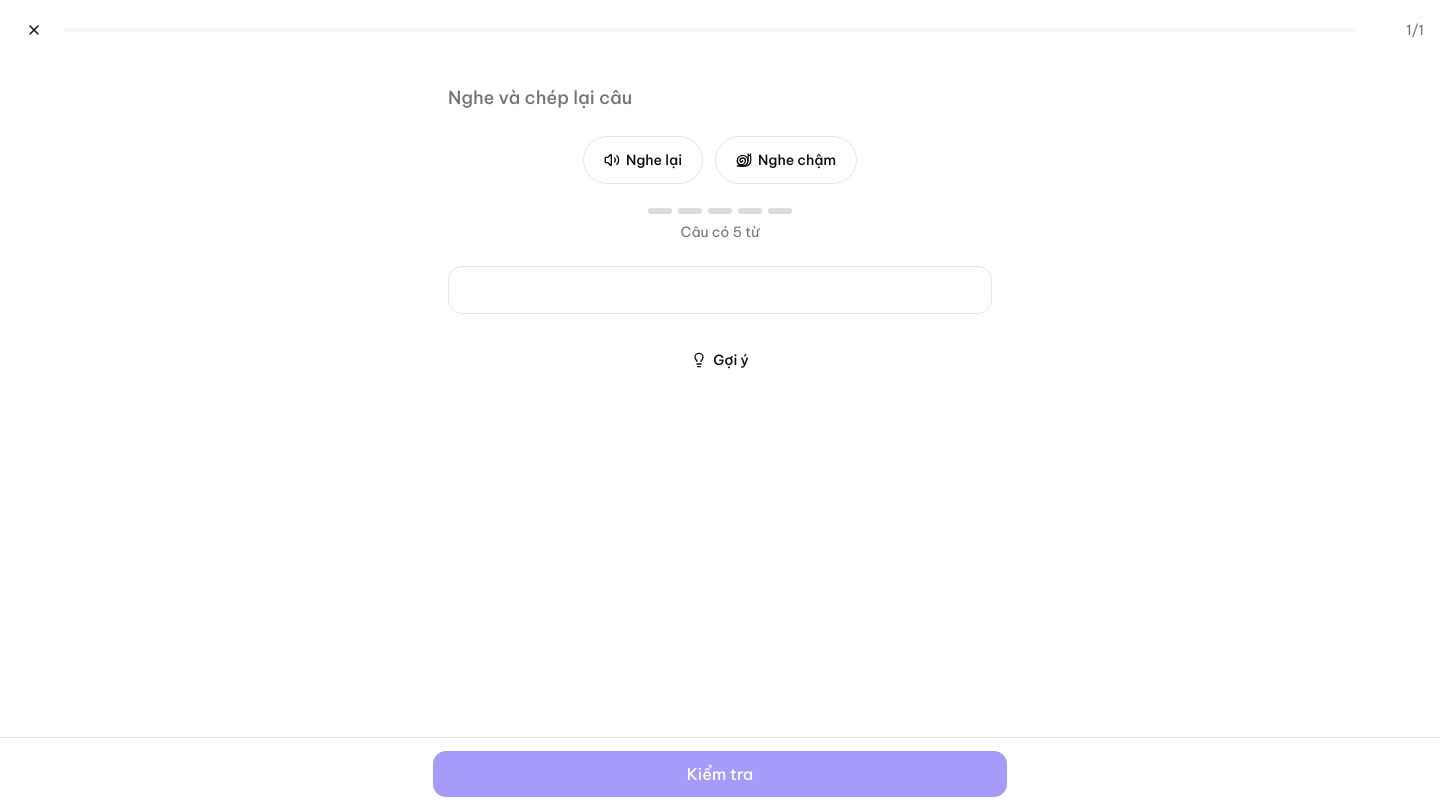
Test: dictation (feature 010) › accepts a forgiving answer and shows the sentence and meaning (AC-004, AC-005, AC-010)
Type "SHE works at a hospital" into the field named "Câu bạn nghe được" at [720, 290], box [448,266,992,314]
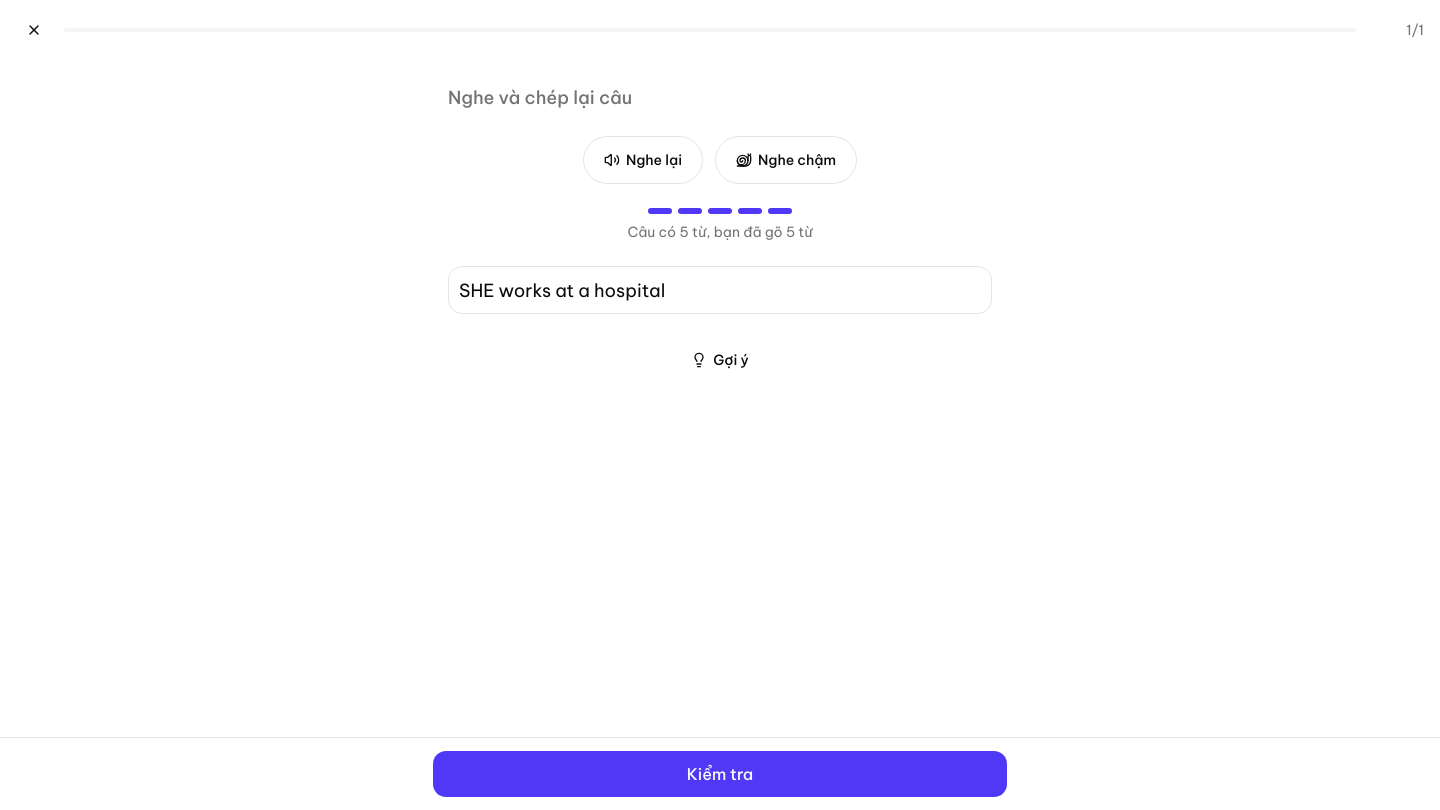
Click the button "Kiểm tra" at [720, 774], box [432,750,1008,798]
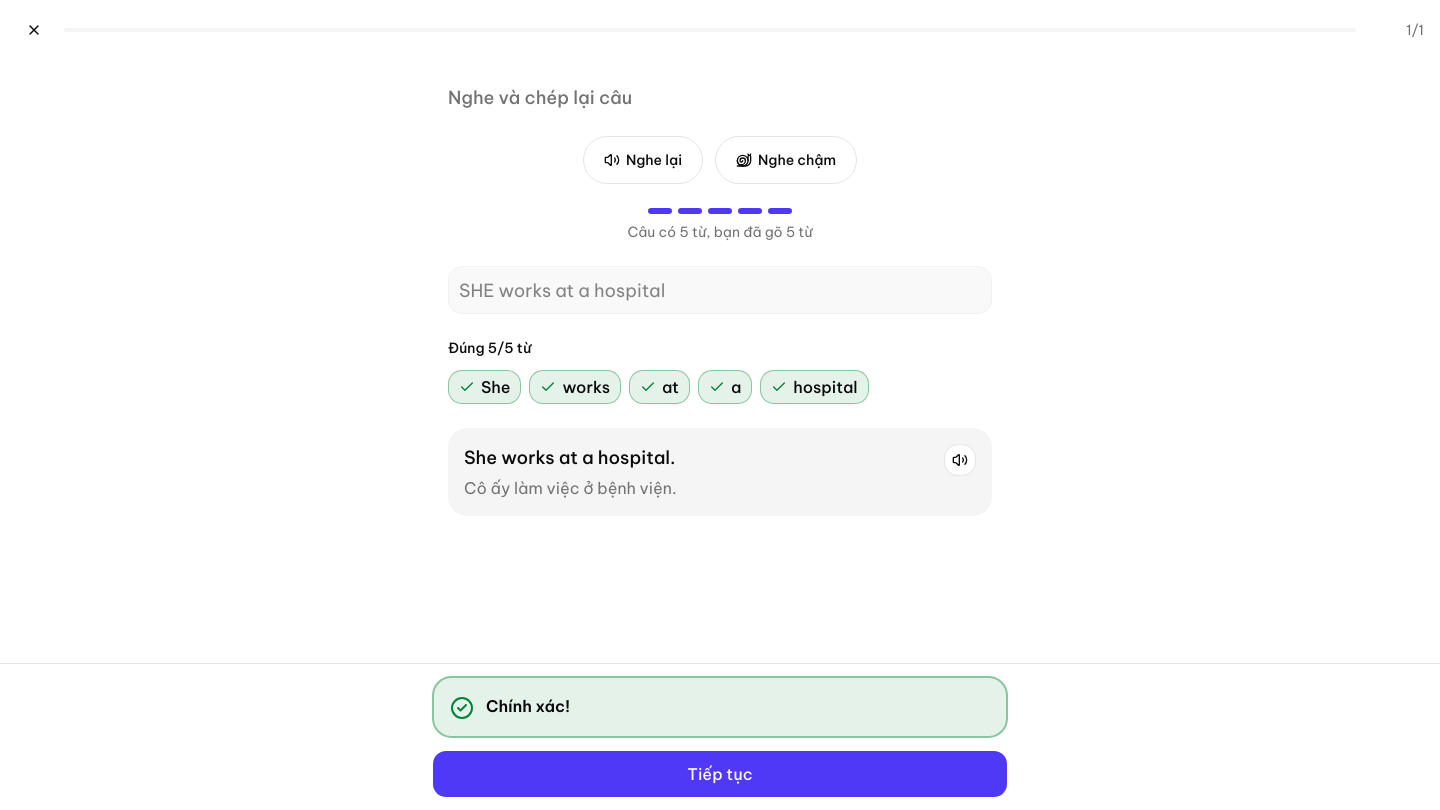
Result: the text "Cô ấy làm việc ở bệnh viện." is shown at [464,478,676,498]
